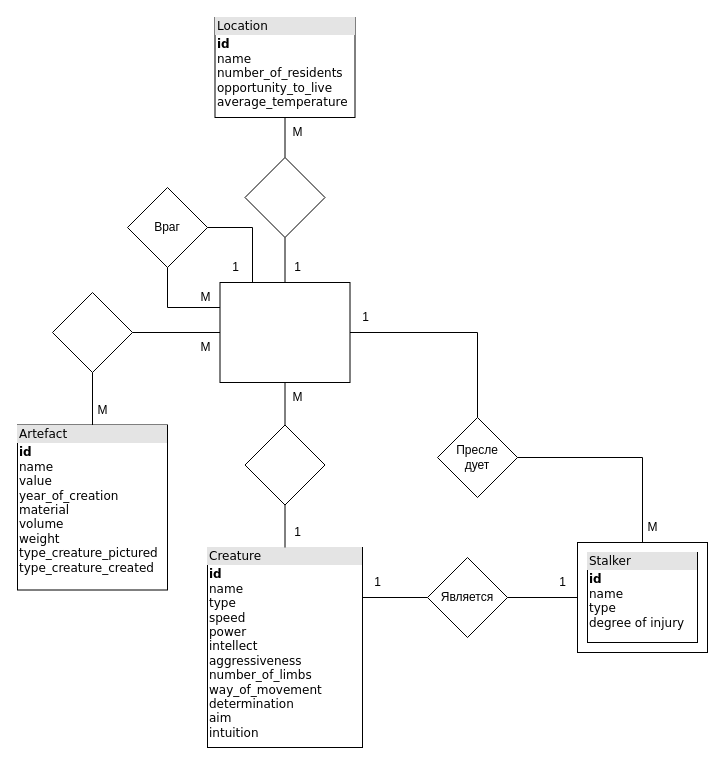
Image size: 725x765. Some labels were removed from this diagram. Here are the shapes that lost their labels. From the top down, the box of each, then its label:
(244, 156, 325, 238): Господ ствуют
(52, 292, 132, 372): Испортили
(219, 282, 350, 382): Group id number_of_people aim name type
(244, 424, 325, 505): Входит в
